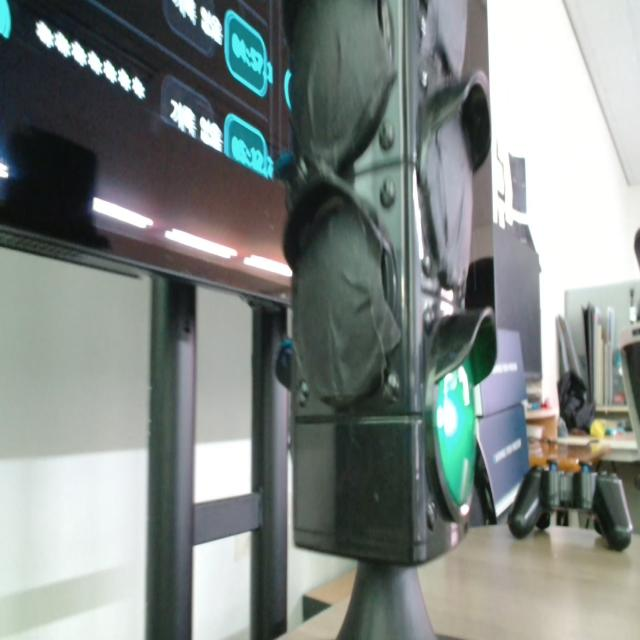green_light: (436, 360, 475, 506), (224, 10, 272, 97), (224, 114, 273, 178), (0, 0, 11, 39), (284, 70, 291, 110)
